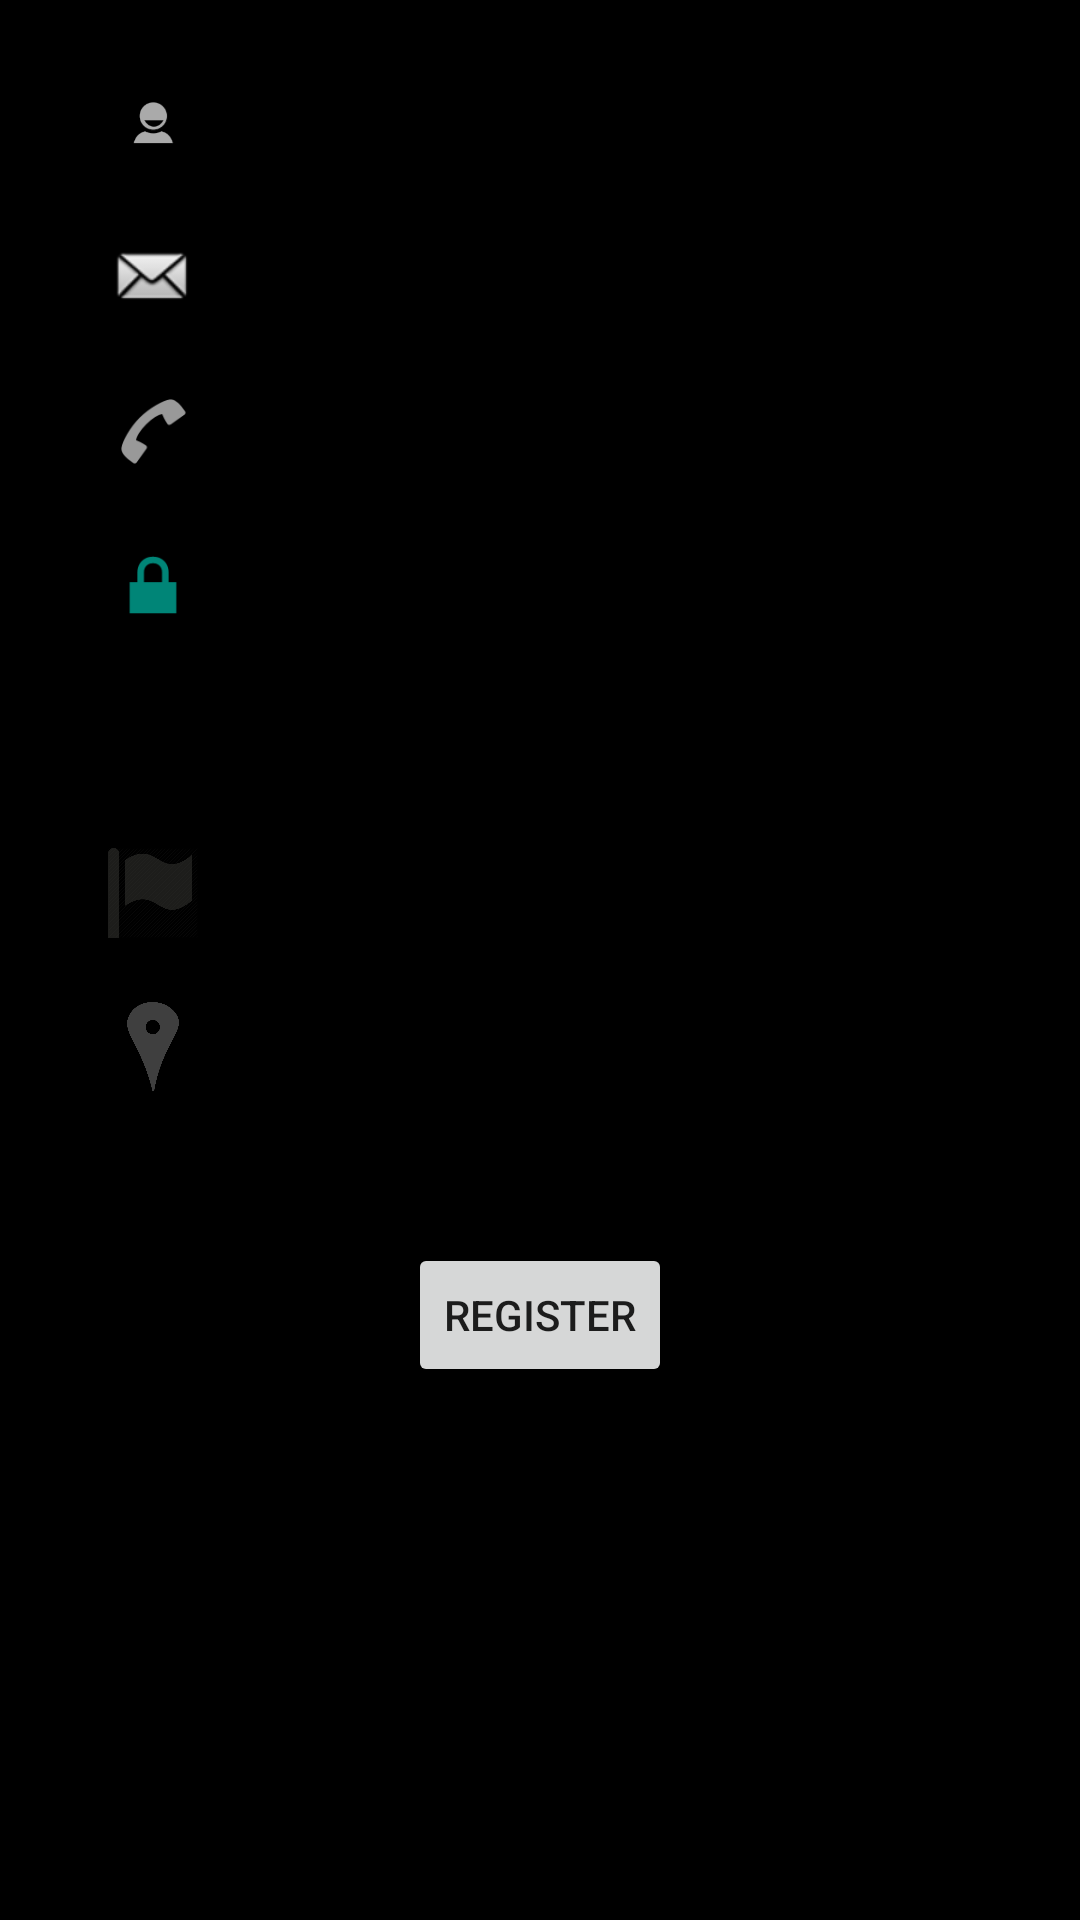

Icon click points for this 1080x1920 phone screenshot, format point (x, y):
call: point (153, 431)
flag: point (150, 893)
lock: point (153, 585)
profile: point (153, 122)
